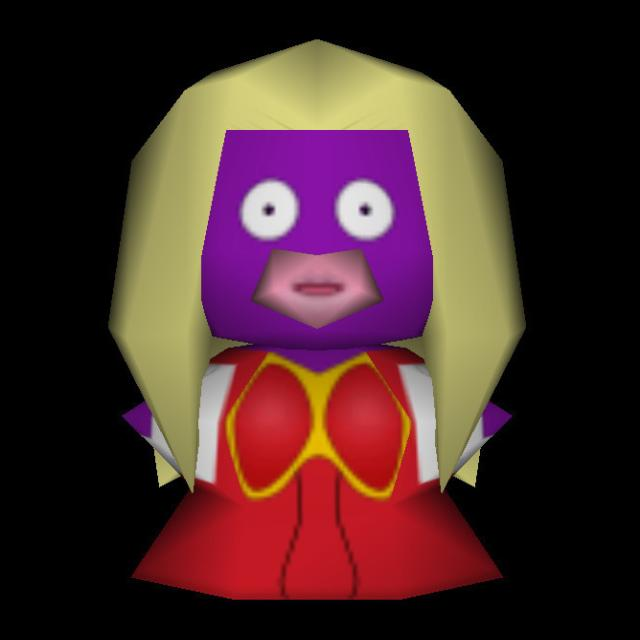Jynx: (117, 37, 525, 640)
